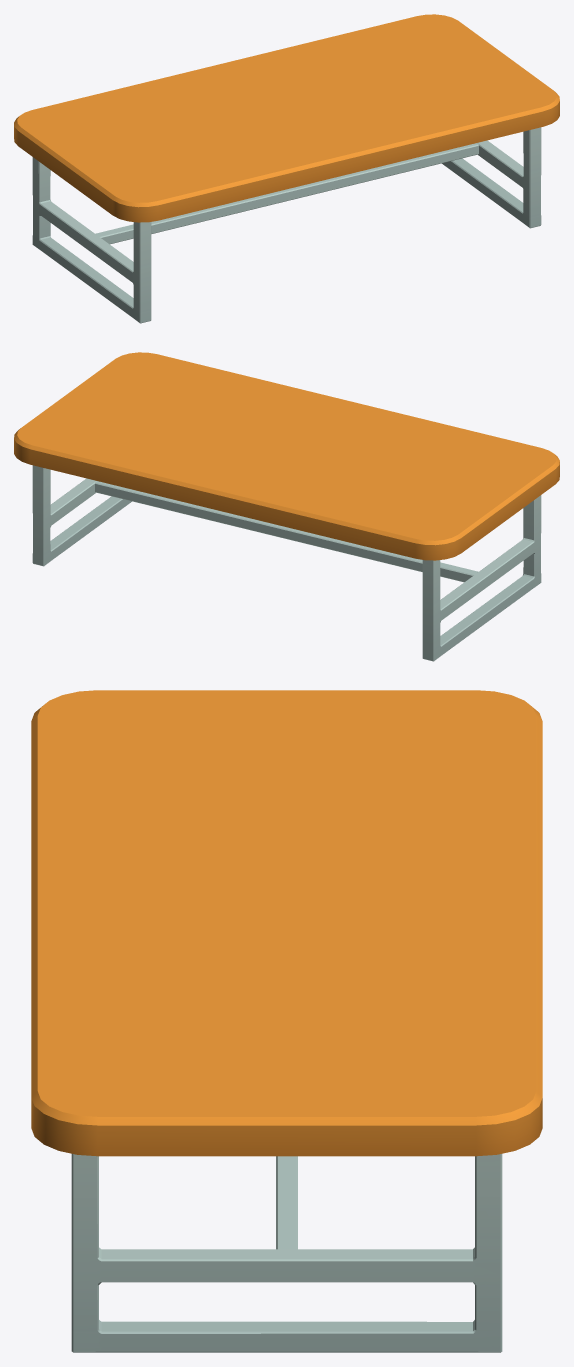
The model's file is Table.fbx.
3 views of the same model, one above another, from view 1: azimuth 30°, elevation 25°; view 2: azimuth 150°, elevation 25°; view 3: azimuth 270°, elevation 25° (orthographic). The views are drawn at different scales.
Visible parts, largest first — view 1: table; view 2: table; view 3: table.
Part boxes in pixels (x1=…): table: x1=14, y1=14, x2=559, y2=323; table: x1=14, y1=352, x2=559, y2=661; table: x1=31, y1=690, x2=542, y2=1352.
Bounding box in the file's own units: 300 × 82.2 × 150.
